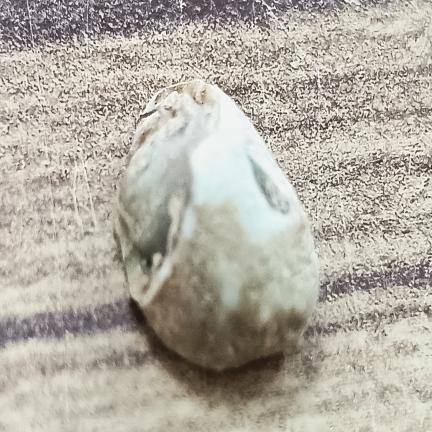cut: (115, 80, 319, 370)
